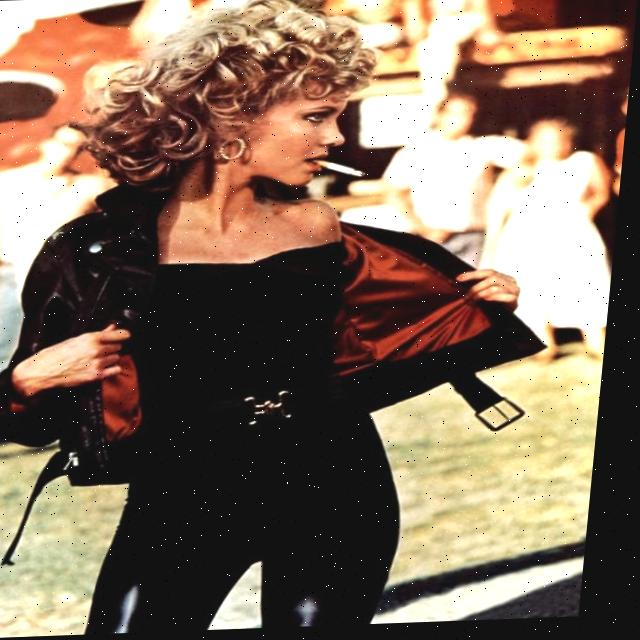cigarette: (318, 160, 371, 181)
